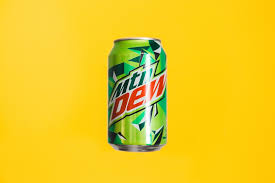can: (102, 33, 171, 158)
